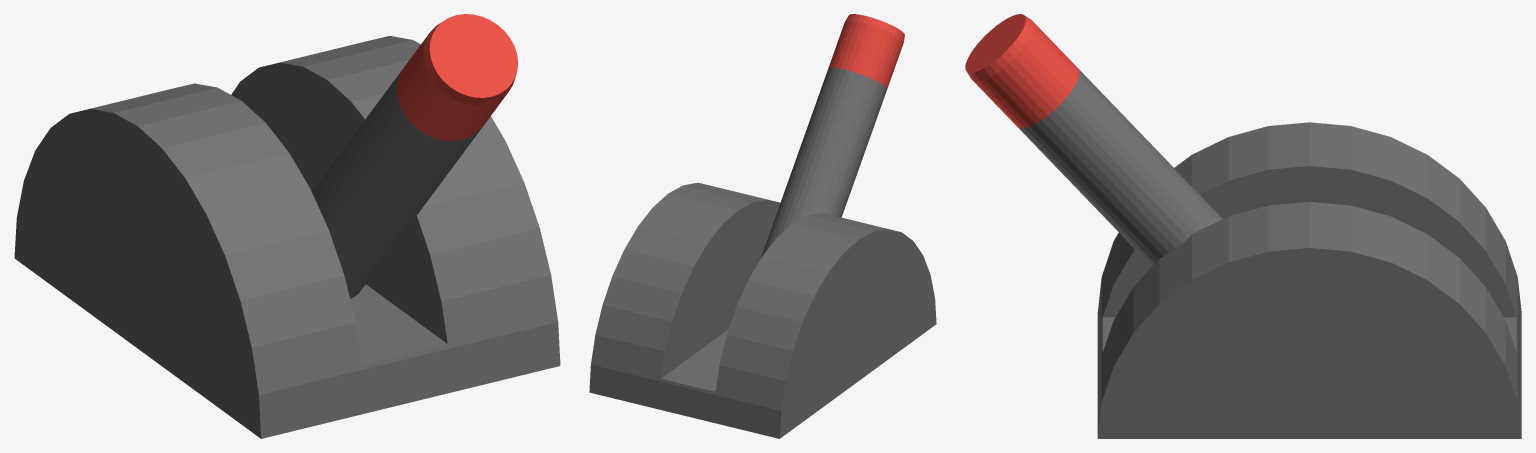
The model's file is levier.fbx.
The picture shows the model from 3 angles, left to right: view 1: azimuth 30°, elevation 25°; view 2: azimuth 150°, elevation 25°; view 3: azimuth 270°, elevation 25°; orthographic projection. The views are drawn at different scales.
Parts seen in each view (by area): view 1: Cylinder.001, Cylinder; view 2: Cylinder.001, Cylinder; view 3: Cylinder.001, Cylinder.
Boxes of the visible parts, x1=… form: Cylinder.001: x1=14, y1=36, x2=560, y2=438; Cylinder: x1=311, y1=14, x2=518, y2=298; Cylinder.001: x1=589, y1=182, x2=936, y2=438; Cylinder: x1=760, y1=14, x2=904, y2=258; Cylinder.001: x1=1097, y1=122, x2=1521, y2=438; Cylinder: x1=965, y1=14, x2=1222, y2=266.
Size of the model in its own units: 140 by 186 by 262.
